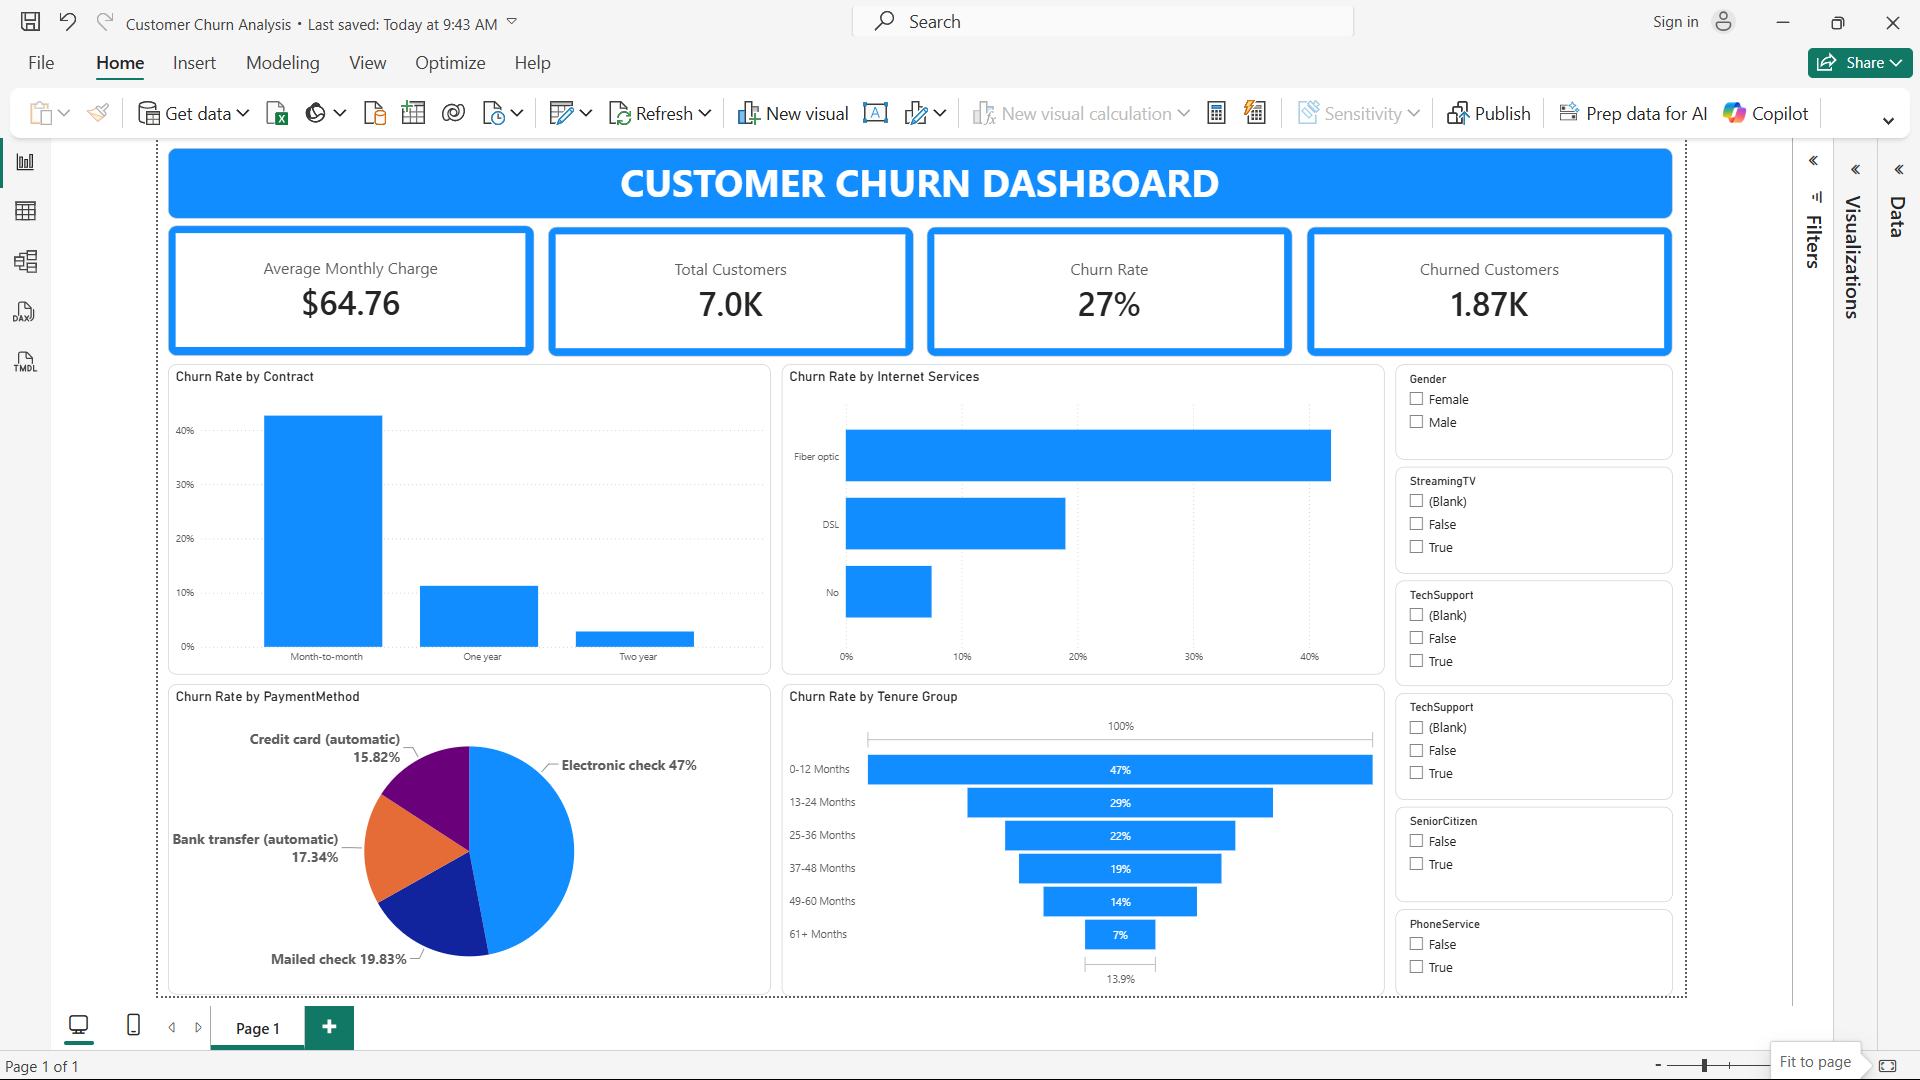

Layout of this report page (visuals, bound fields, positions):
{"tool":"powerbi","page":{"name":"Page 1","canvas":[1920,1080],"ordinal":0},"visuals":[{"type":"columnChart","title":"Churn Rate by Contract","fields":{"Category":["WA_Fn-UseC_-Telco-Customer-Churn.Contract"],"Y":["WA_Fn-UseC_-Telco-Customer-Churn.Churn Rate"]},"box":[13.1,283.8,758.7,390.7],"z":0},{"type":"clusteredBarChart","title":"Churn Rate by Internet Services","fields":{"Category":["WA_Fn-UseC_-Telco-Customer-Churn.InternetService"],"Y":["WA_Fn-UseC_-Telco-Customer-Churn.Churn Rate"]},"box":[784.7,284.3,758.7,390.7],"z":1000},{"type":"pieChart","fields":{"Y":["WA_Fn-UseC_-Telco-Customer-Churn.Churn Rate"],"Category":["WA_Fn-UseC_-Telco-Customer-Churn.PaymentMethod"]},"box":[13.1,687.1,758.7,390.7],"z":2000},{"type":"funnel","title":"Churn Rate by Tenure Group","fields":{"Y":["WA_Fn-UseC_-Telco-Customer-Churn.Churn Rate"],"Category":["WA_Fn-UseC_-Telco-Customer-Churn.Tenure Group"]},"box":[784.7,687.5,758.7,392.4],"z":3000},{"type":"slicer","fields":{"Values":["WA_Fn-UseC_-Telco-Customer-Churn.PhoneService"]},"box":[1556.3,969.8,348.8,109.9],"z":4000},{"type":"slicer","fields":{"Values":["WA_Fn-UseC_-Telco-Customer-Churn.SeniorCitizen"]},"box":[1556.3,840.7,348.8,120.3],"z":5000},{"type":"slicer","fields":{"Values":["WA_Fn-UseC_-Telco-Customer-Churn.TechSupport"]},"box":[1556.3,697.7,348.8,134.3],"z":6000},{"type":"slicer","fields":{"Values":["WA_Fn-UseC_-Telco-Customer-Churn.TechSupport"]},"box":[1556.3,556.4,348.8,132.6],"z":7000},{"type":"slicer","fields":{"Values":["WA_Fn-UseC_-Telco-Customer-Churn.StreamingTV"]},"box":[1556.3,413.4,348.8,134.3],"z":8000},{"type":"slicer","fields":{"Values":["WA_Fn-UseC_-Telco-Customer-Churn.gender"]},"box":[1556.3,284.3,348.8,120.3],"z":9000},{"type":"cardVisual","fields":{"Data":["Avg(WA_Fn-UseC_-Telco-Customer-Churn.MonthlyCharges)"]},"box":[12.9,110.5,460.5,164],"z":10000},{"type":"cardVisual","fields":{"Data":["Count(WA_Fn-UseC_-Telco-Customer-Churn.customerID)"]},"box":[490.6,111,460,163],"z":11000},{"type":"cardVisual","fields":{"Data":["WA_Fn-UseC_-Telco-Customer-Churn.Churn Rate"]},"box":[967.7,111,460,163],"z":12000},{"type":"cardVisual","fields":{"Data":["WA_Fn-UseC_-Telco-Customer-Churn.Churned Customers"]},"box":[1444.9,111,460,163],"z":13000},{"type":"textbox","box":[12.7,12.2,1892.4,89],"z":14000}]}

Visuals, with their boxes on the page's 1920x1080 design canvas (x1, y1, x2, y2). These are canvas units, not pixel positions in the 1920x1080 screenshot, which may show the page scaled, cropped or inside an application window:
"Churn Rate by Contract" columnChart: pyautogui.locateOnScreen(13, 284, 772, 674)
"Churn Rate by Internet Services" clusteredBarChart: pyautogui.locateOnScreen(785, 284, 1543, 675)
pieChart - WA_Fn-UseC_-Telco-Customer-Churn.Churn Rate x WA_Fn-UseC_-Telco-Customer-Churn.PaymentMethod: pyautogui.locateOnScreen(13, 687, 772, 1078)
"Churn Rate by Tenure Group" funnel: pyautogui.locateOnScreen(785, 688, 1543, 1080)
slicer - WA_Fn-UseC_-Telco-Customer-Churn.PhoneService: pyautogui.locateOnScreen(1556, 970, 1905, 1080)
slicer - WA_Fn-UseC_-Telco-Customer-Churn.SeniorCitizen: pyautogui.locateOnScreen(1556, 841, 1905, 961)
slicer - WA_Fn-UseC_-Telco-Customer-Churn.TechSupport: pyautogui.locateOnScreen(1556, 698, 1905, 832)
slicer - WA_Fn-UseC_-Telco-Customer-Churn.TechSupport: pyautogui.locateOnScreen(1556, 556, 1905, 689)
slicer - WA_Fn-UseC_-Telco-Customer-Churn.StreamingTV: pyautogui.locateOnScreen(1556, 413, 1905, 548)
slicer - WA_Fn-UseC_-Telco-Customer-Churn.gender: pyautogui.locateOnScreen(1556, 284, 1905, 405)
cardVisual - Avg(WA_Fn-UseC_-Telco-Customer-Churn.MonthlyCharges): pyautogui.locateOnScreen(13, 110, 473, 274)
cardVisual - Count(WA_Fn-UseC_-Telco-Customer-Churn.customerID): pyautogui.locateOnScreen(491, 111, 951, 274)
cardVisual - WA_Fn-UseC_-Telco-Customer-Churn.Churn Rate: pyautogui.locateOnScreen(968, 111, 1428, 274)
cardVisual - WA_Fn-UseC_-Telco-Customer-Churn.Churned Customers: pyautogui.locateOnScreen(1445, 111, 1905, 274)
textbox: pyautogui.locateOnScreen(13, 12, 1905, 101)
